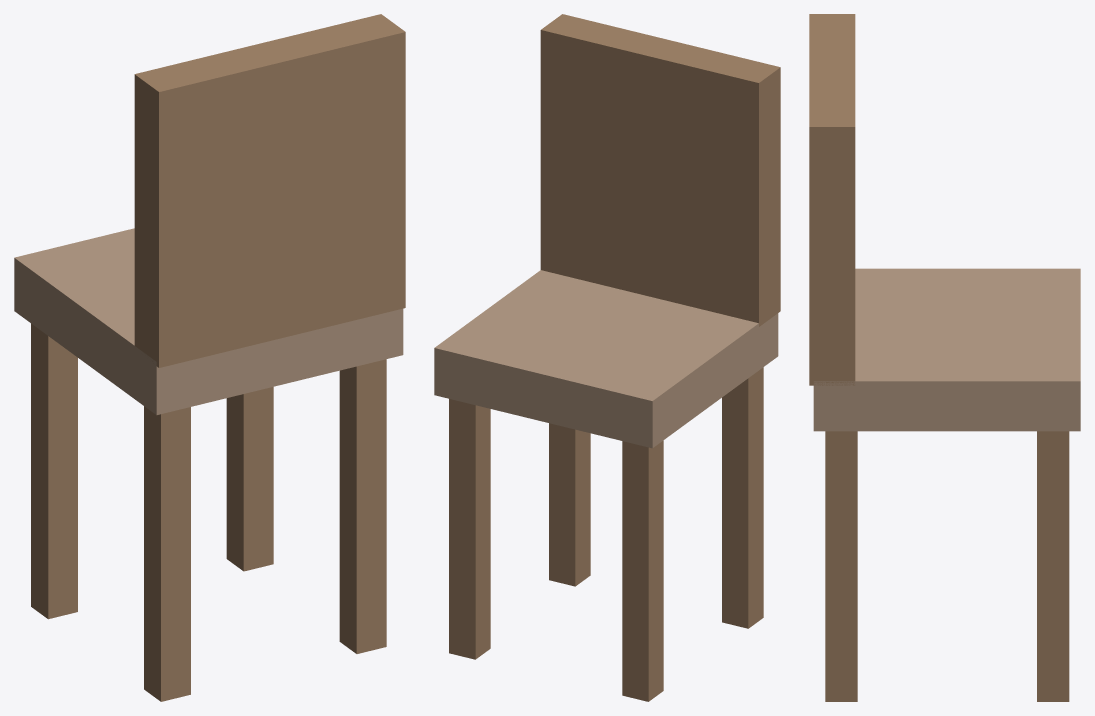
Rendered from arc-chair.glb.
The picture shows the model from 3 angles, left to right: view 1: azimuth 30°, elevation 25°; view 2: azimuth 150°, elevation 25°; view 3: azimuth 270°, elevation 25°; orthographic projection. The views are drawn at different scales.
Bounding box in the file's own units: 0.58 × 1.39 × 0.59.
